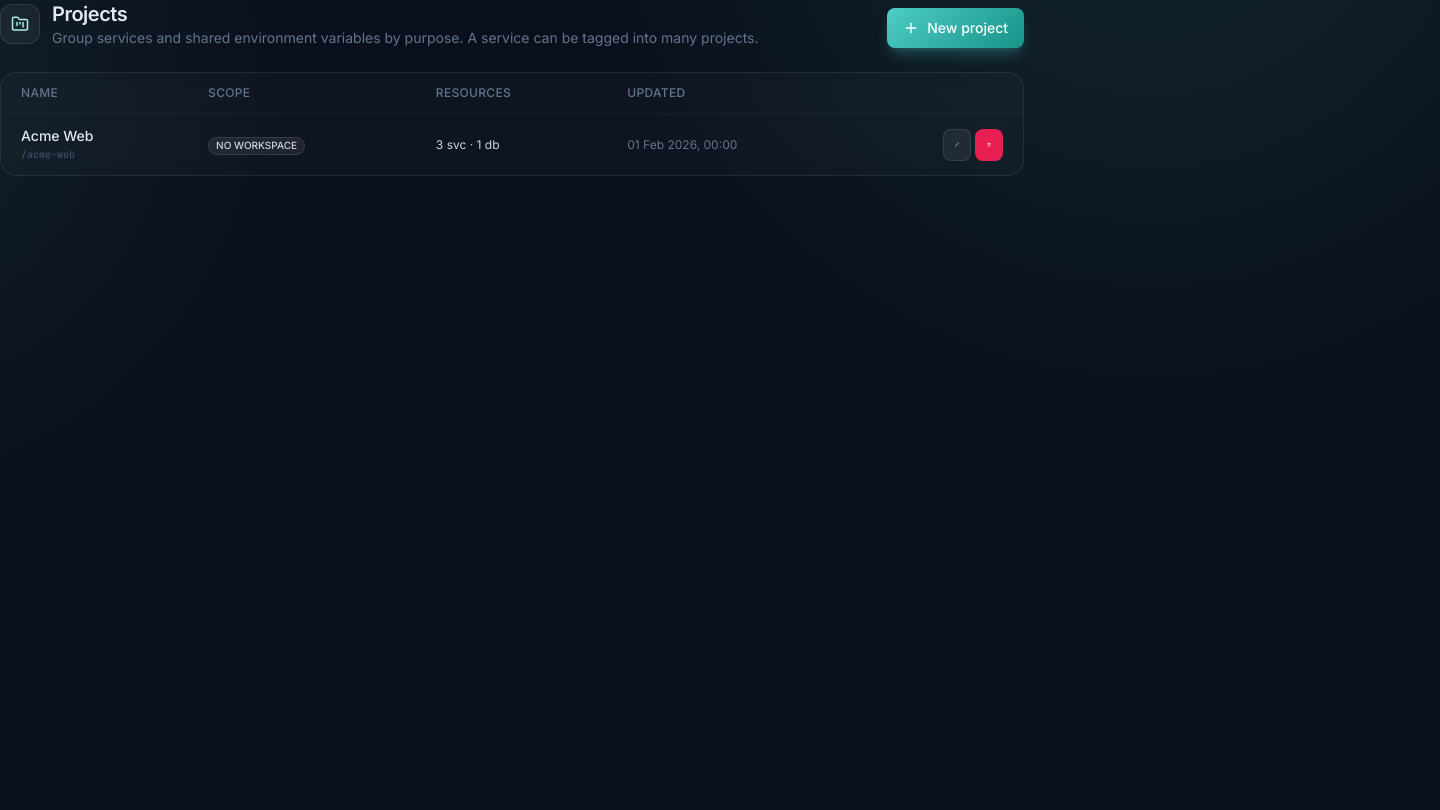
Test case: Projects route › pre-fills an unscoped project without a description
What coordinates should you click on to do the following:
click the button named "Edit project"
I would click on:
 (957, 144)
Its box is [943,128,971,160].
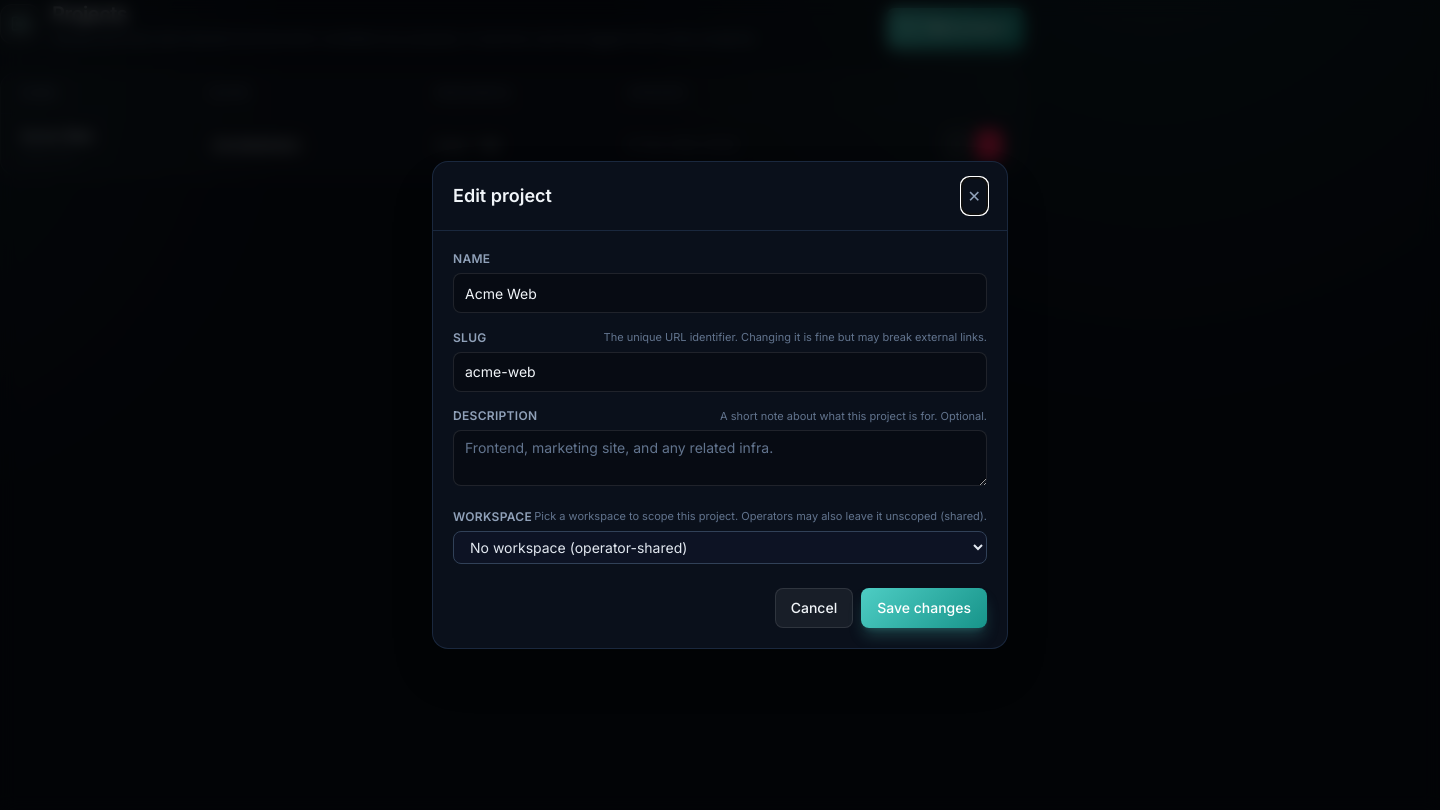
Result: the dropdown showing "No workspace (operator-shared)" is shown at [453,531,987,564]
